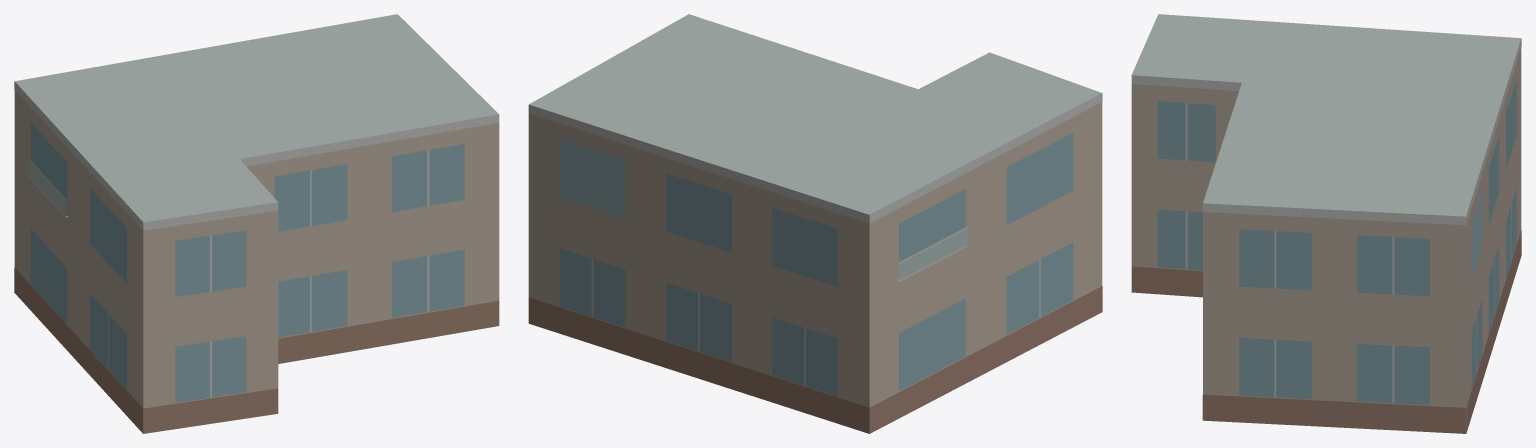
The model's file is survey-upis-32762637.glb.
3 renders of one model, left to right at view 1: azimuth 30°, elevation 25°; view 2: azimuth 150°, elevation 25°; view 3: azimuth 270°, elevation 25°, orthographic. The views are drawn at different scales.
Parts seen in each view (by area): view 1: survey-upis-32762637.tmp; view 2: survey-upis-32762637.tmp; view 3: survey-upis-32762637.tmp.
Boxes of the visible parts, x1,y1,x2,y2 form: survey-upis-32762637.tmp: [14, 14, 499, 433]; survey-upis-32762637.tmp: [528, 14, 1102, 433]; survey-upis-32762637.tmp: [1131, 14, 1521, 433].
Bounding box in the file's own units: 12.21 × 6.1 × 9.93.
